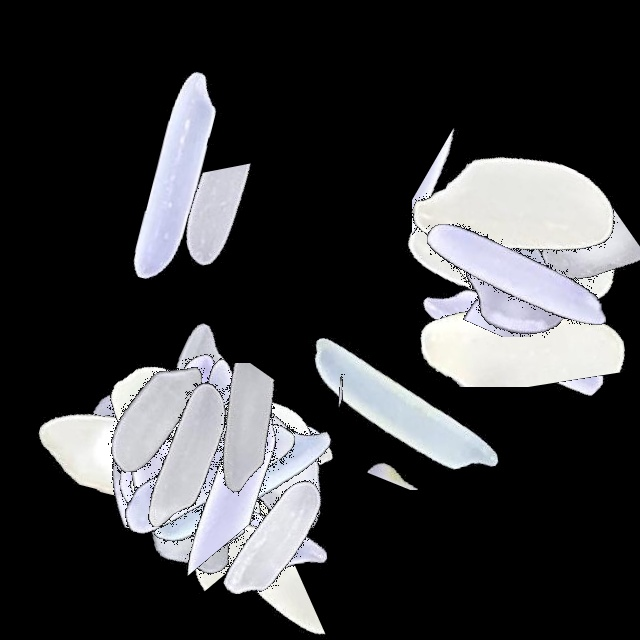Broken: (131, 420, 381, 594), (97, 363, 347, 537), (133, 383, 301, 633), (39, 398, 289, 561), (122, 335, 281, 585), (390, 229, 640, 387), (176, 322, 329, 572), (28, 378, 278, 531), (153, 120, 305, 370), (489, 145, 640, 395), (96, 502, 346, 640), (166, 396, 416, 531), (499, 156, 632, 406), (91, 327, 215, 577), (108, 357, 358, 473), (412, 90, 527, 340), (390, 222, 640, 337), (142, 328, 247, 578), (520, 175, 621, 425), (47, 443, 297, 539), (477, 162, 573, 412), (515, 149, 607, 399), (258, 358, 508, 447), (296, 402, 546, 490), (188, 390, 272, 640)
Full: (90, 304, 340, 554), (69, 276, 319, 526), (50, 52, 300, 302), (390, 126, 640, 376), (26, 312, 276, 562), (105, 314, 355, 564), (0, 330, 250, 580), (390, 95, 640, 345), (90, 338, 340, 588), (110, 332, 360, 582), (99, 390, 349, 640), (281, 278, 531, 528), (94, 335, 344, 585), (58, 390, 308, 640), (65, 319, 315, 569), (381, 142, 631, 392), (33, 293, 283, 543), (146, 340, 396, 590), (390, 84, 640, 334), (390, 217, 640, 467), (115, 359, 365, 609), (83, 352, 333, 602), (390, 166, 640, 416), (63, 331, 313, 581), (390, 150, 640, 400)
